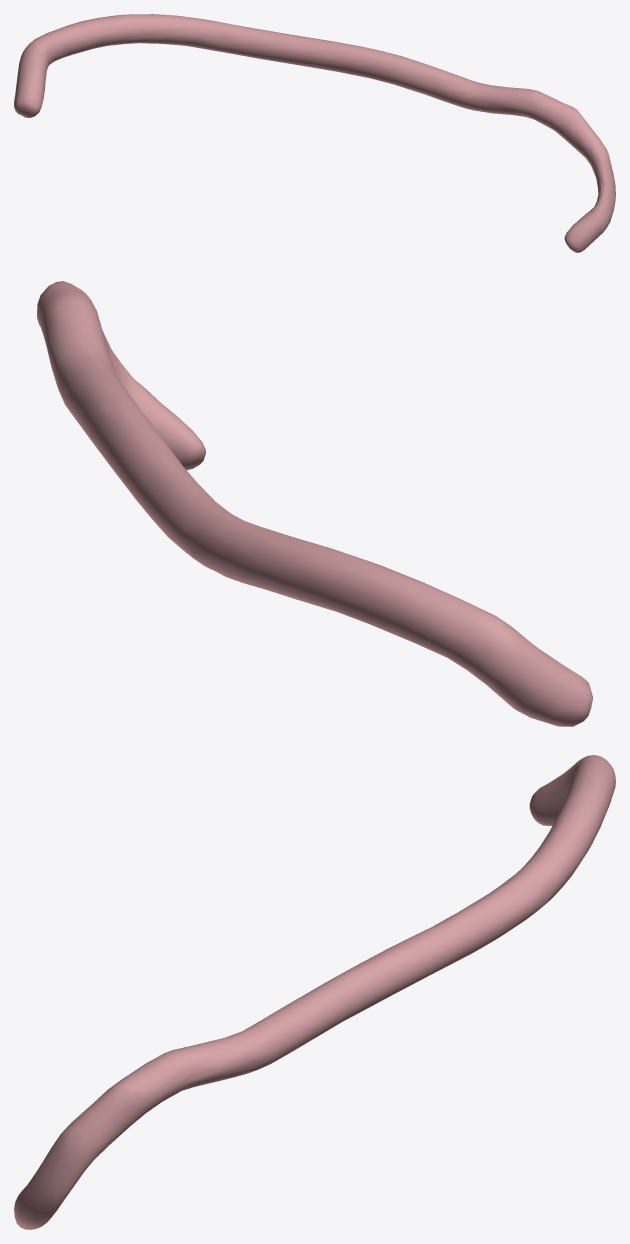
The model's file is fma83733-l_mm3221.glb.
The picture shows the model from 3 angles, top to bottom: view 1: azimuth 30°, elevation 25°; view 2: azimuth 150°, elevation 25°; view 3: azimuth 270°, elevation 25°; orthographic projection. The views are drawn at different scales.
Visible parts, largest first — view 1: FMA83733-L_MM3221; view 2: FMA83733-L_MM3221; view 3: FMA83733-L_MM3221.
Part boxes in pixels (box(x1,y1,x2,y2)): FMA83733-L_MM3221: box(14, 14, 615, 252); FMA83733-L_MM3221: box(37, 281, 592, 726); FMA83733-L_MM3221: box(14, 755, 615, 1229).
Size of the model in its own units: 0.0437 by 0.0157 by 0.0361.
